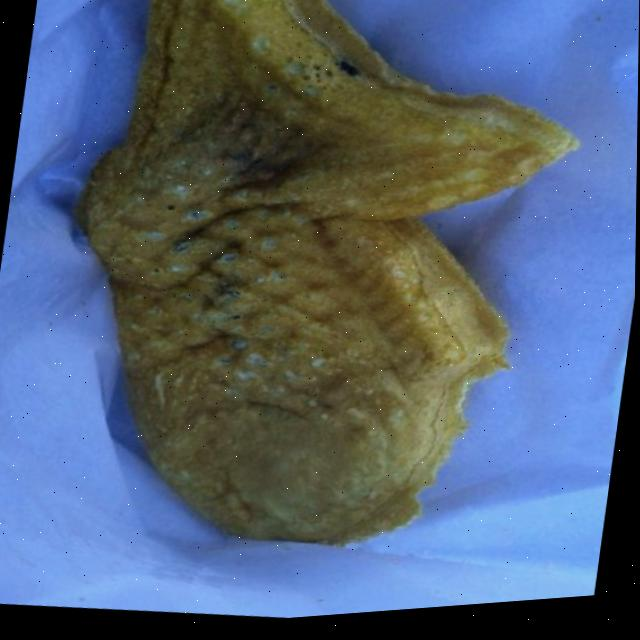熟制海鲜: (0, 13, 584, 609)
